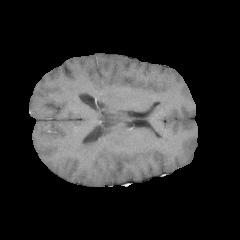glioma: (74, 128, 116, 164)
